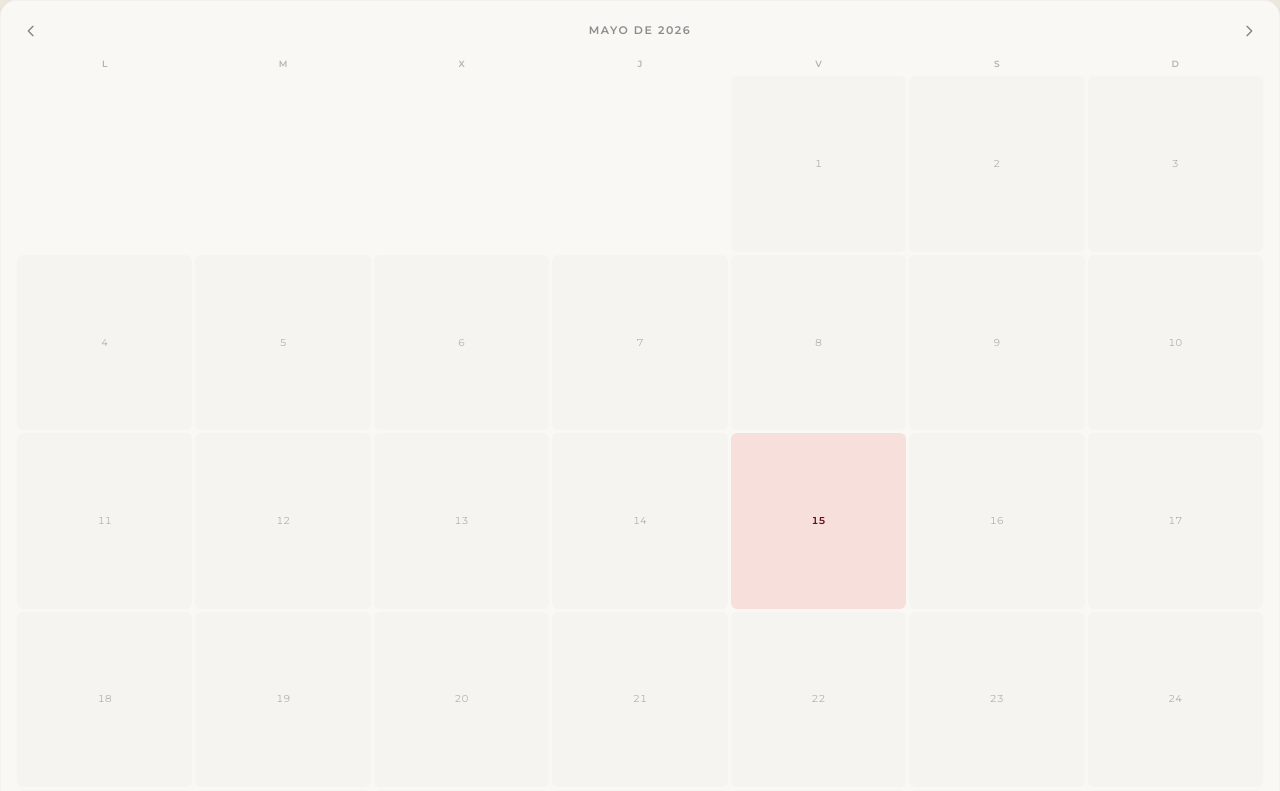
Test: SessionMiniCalendar › goes to the previous month when the previous-month arrow is clicked
What coordinates should you click on to do the following:
click the button named "Mes anterior"
I would click on:
 (31, 31)
Its box is [17,17,45,45].
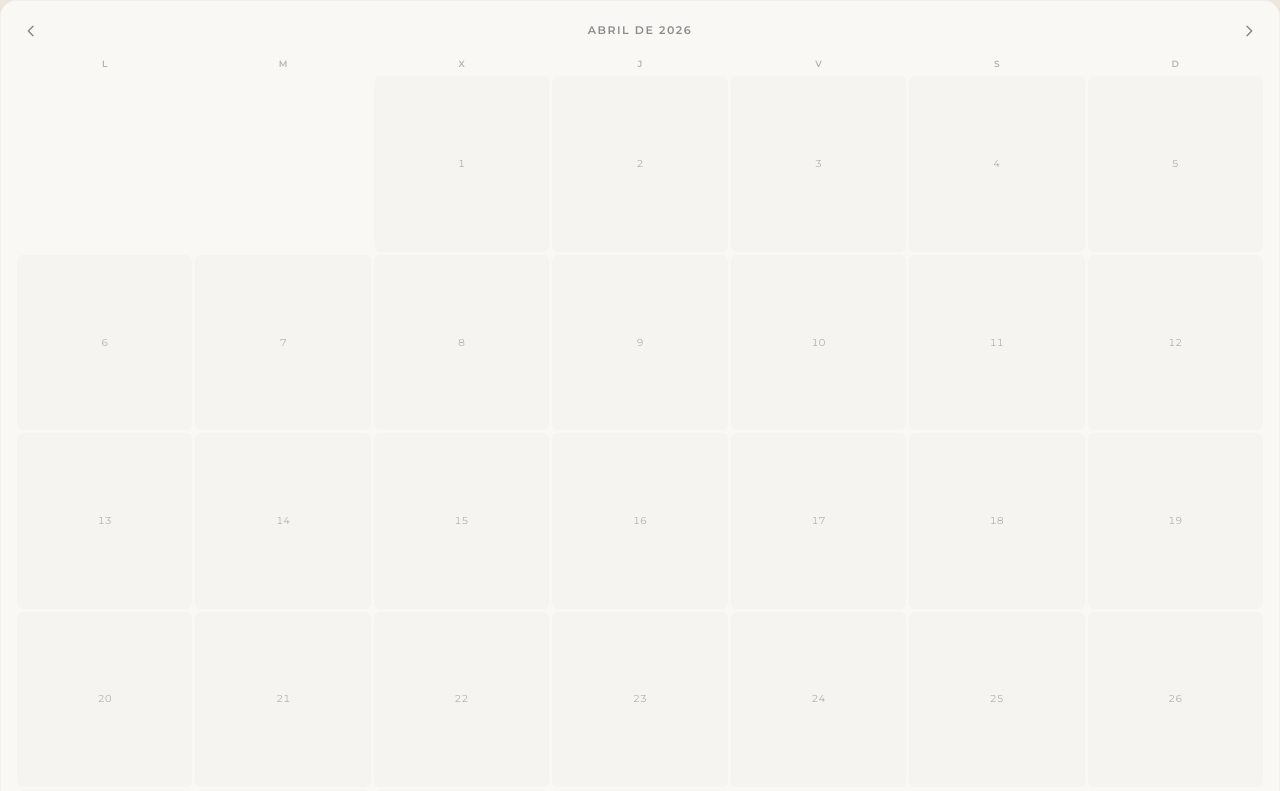
Check: the text "abril de 2026" is shown, box [588,22,692,40]
